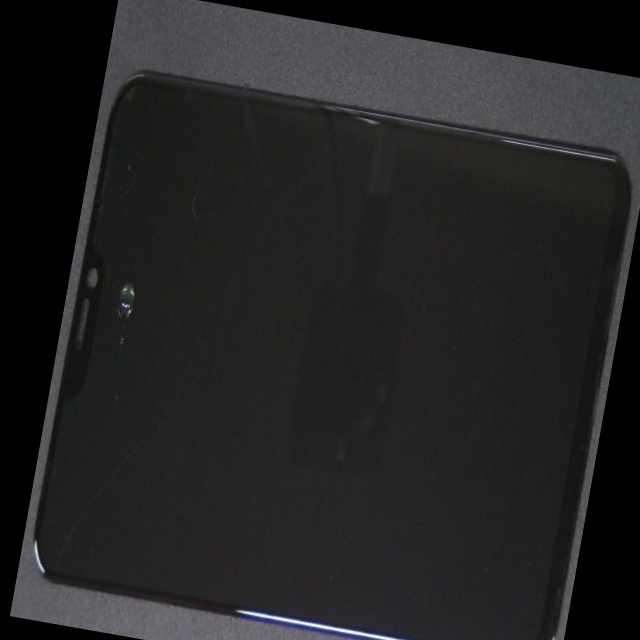oil: (86, 164, 200, 450)
